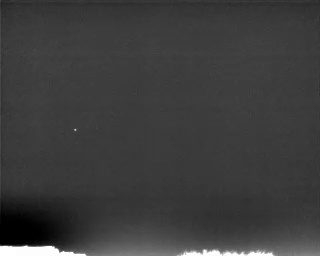BIRD: (71, 125, 79, 134)
